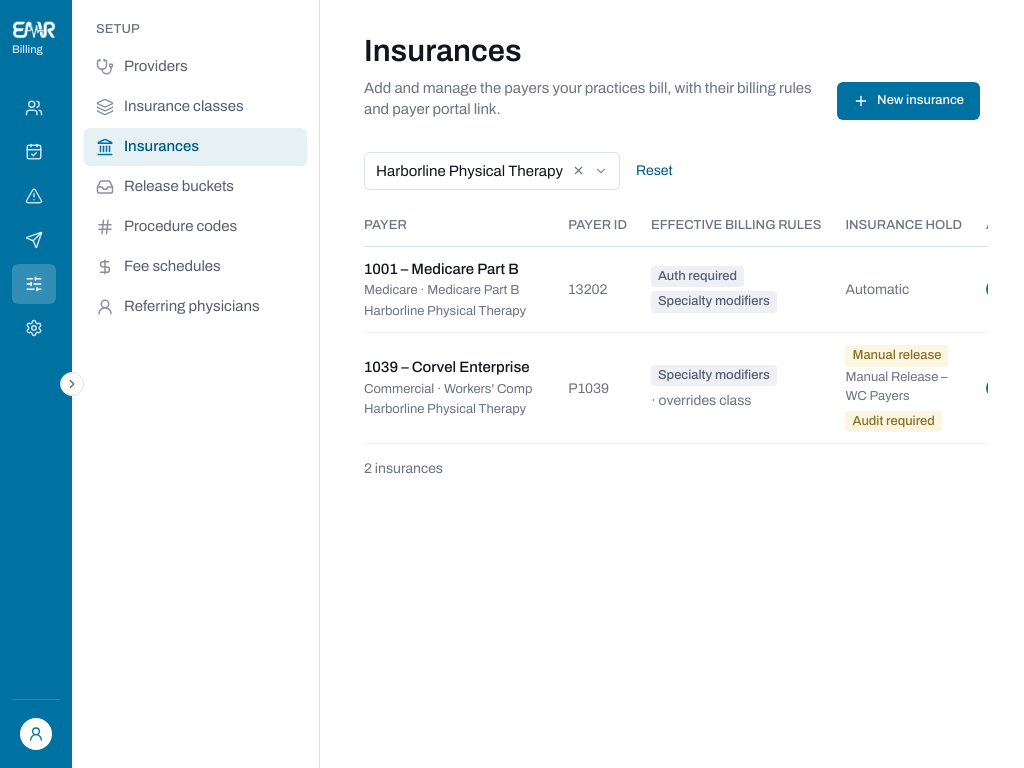
Scenario: Setup → Insurances › refuses an incomplete insurance with a message on each field
This screenshot has width=1024, height=768.
Step 1. Click the button "New insurance" → coordinates (909, 101), box [837,82,980,120]
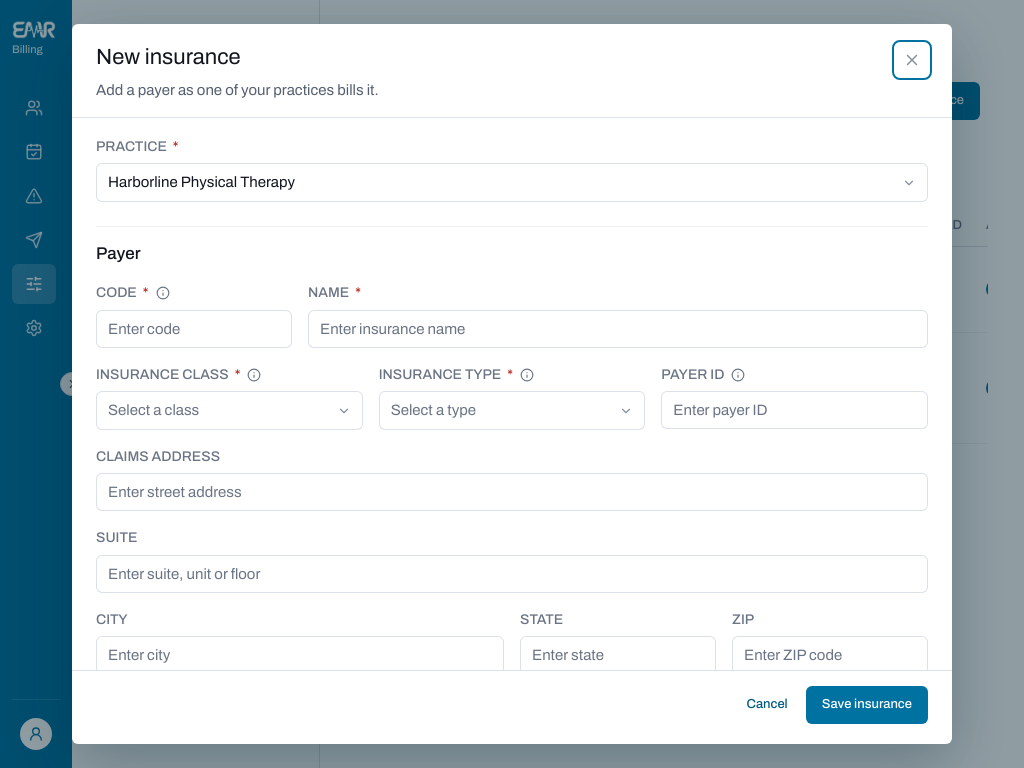
Step 2. Click the button "Save insurance" → coordinates (867, 705), box [806,686,928,724]
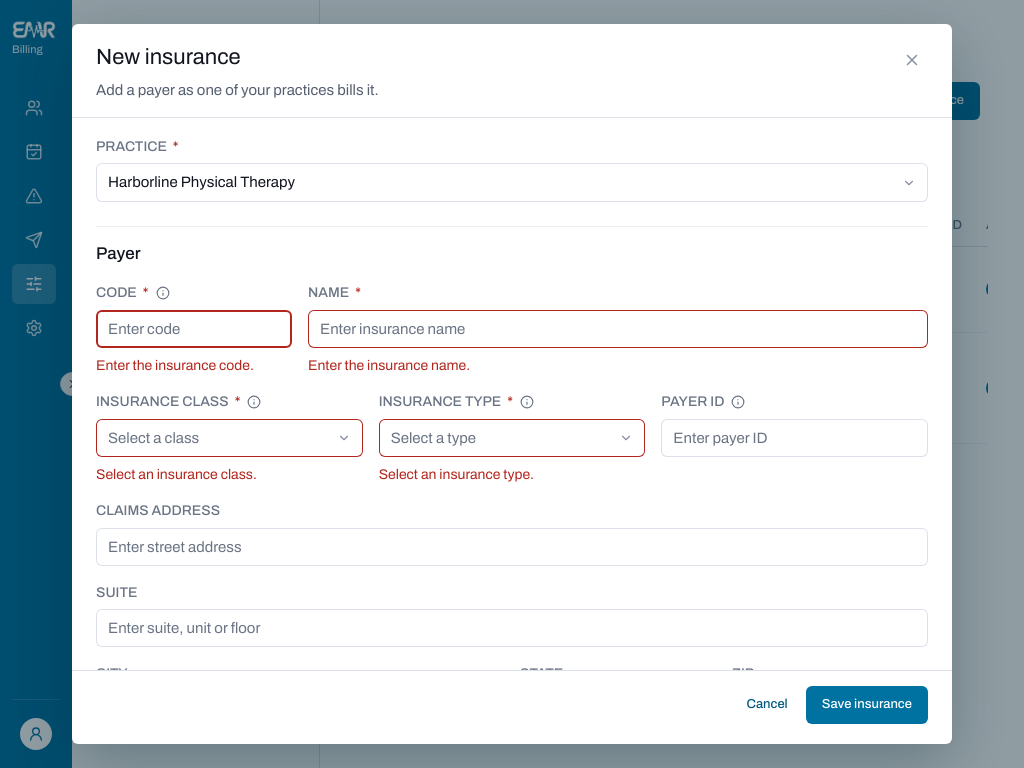
expect the text "Enter the insurance code." is shown: met, box [96,358,254,373]
expect the text "Enter the insurance name." is shown: met, box [308,358,470,373]
expect the text "Select an insurance class." is shown: met, box [96,467,257,482]
